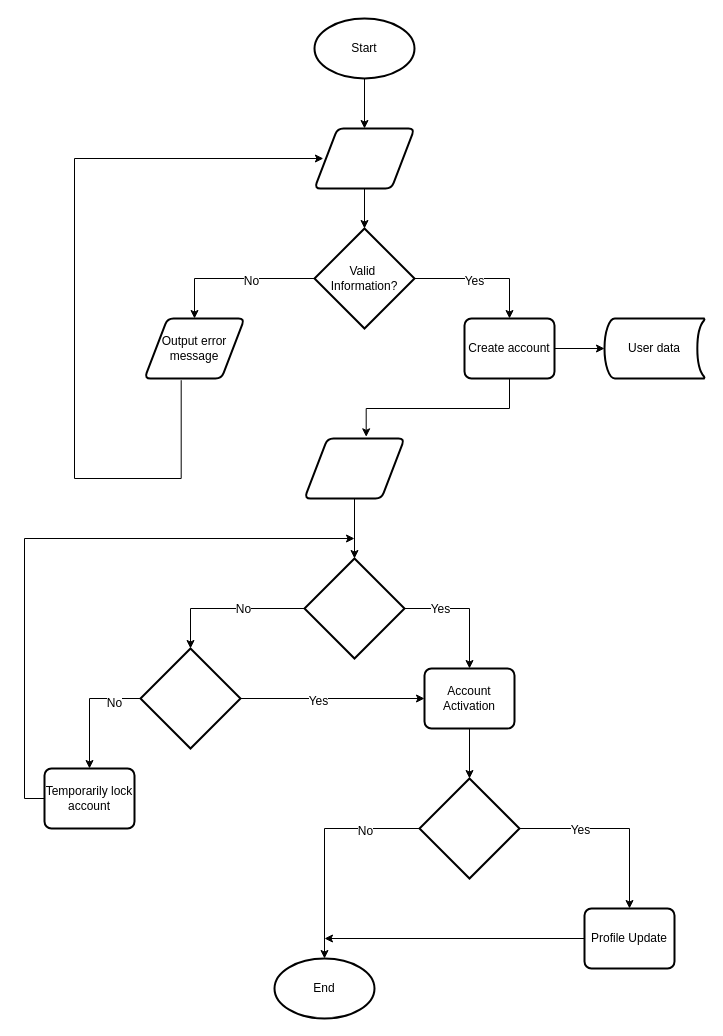
The diagram is 723 pixels wide and 1036 high, and some of its shapes have lost their labels. The shapes that lost their labels are listed below. From the top down, each one's centre as x and y in pixels, then its label:
At (x=364, y=158): "Input User information".
At (x=354, y=468): "Output confirmation of email".
At (x=354, y=608): "Email confirmed?".
At (x=190, y=698): "Confirmed in 24 hours?".
At (x=469, y=828): "Update profile?".
